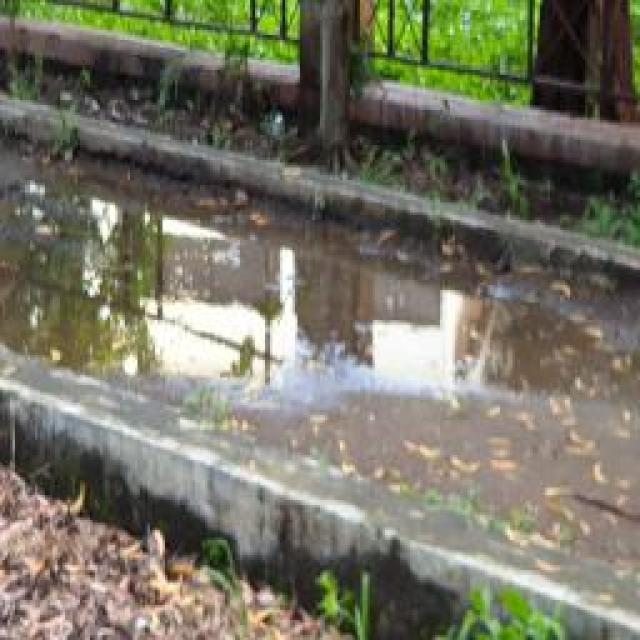puddle: (1, 181, 590, 394)
